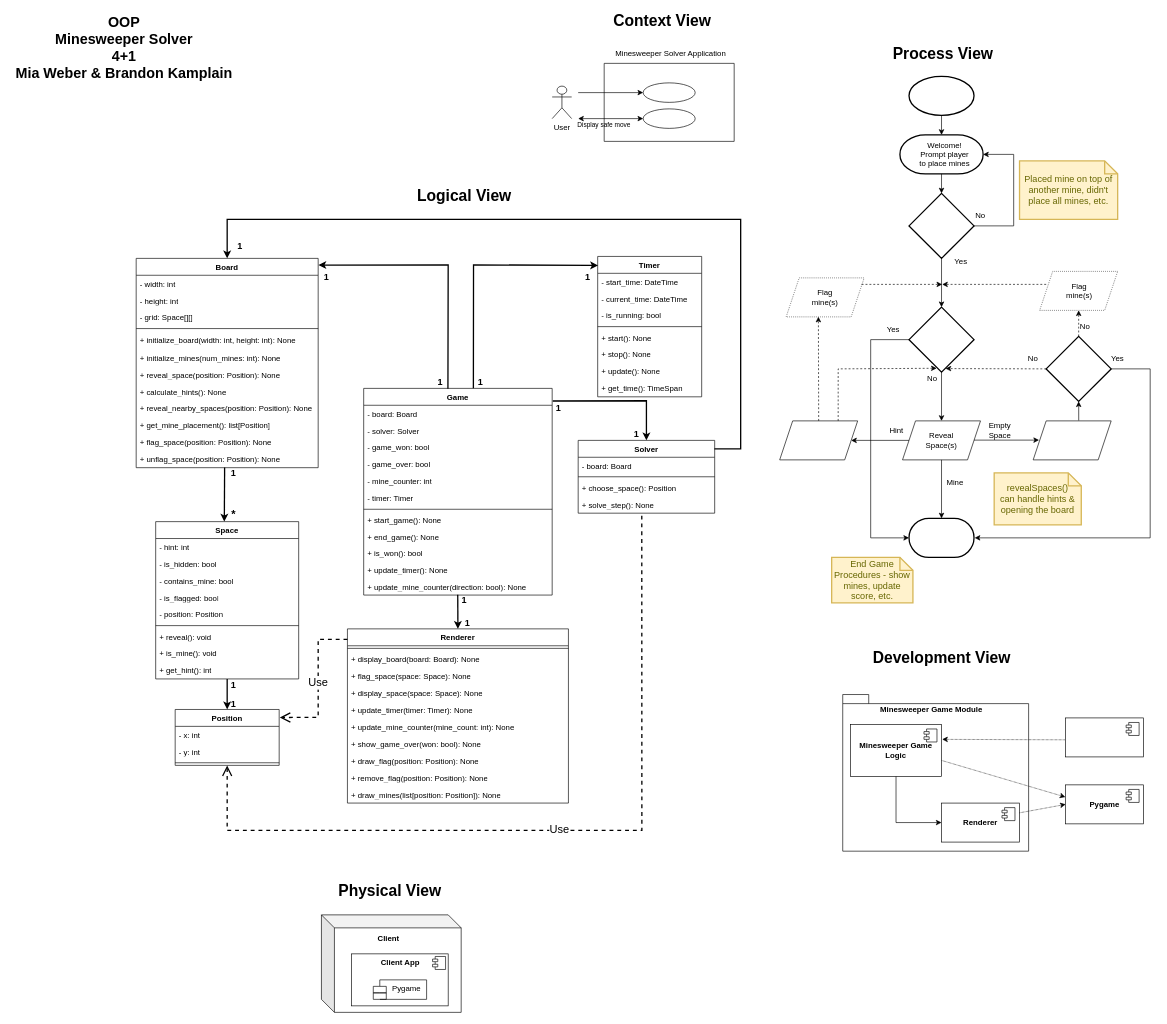
This 1167x1024 diagram has some shape labels left out. The shapes that lost their labels are listed below. From the top down, each one's centre as x and y in pixels, then its label:
the point at 669,92: Input board configuration
the point at 941,95: Start
the point at 669,118: Calculate safe move
the point at 941,225: Valid?
the point at 941,339: Flagged all mines?
the point at 1078,368: Cleared whole board?
the point at 818,440: Display Hint
the point at 1072,440: Display Open Board
the point at 941,537: Game Over
the point at 1104,737: Testing
